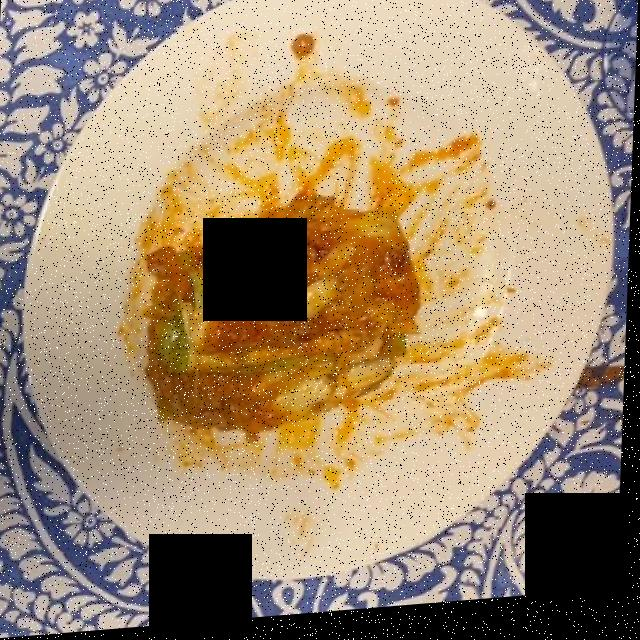lasagne-meat-prepared: (142, 195, 440, 448)
